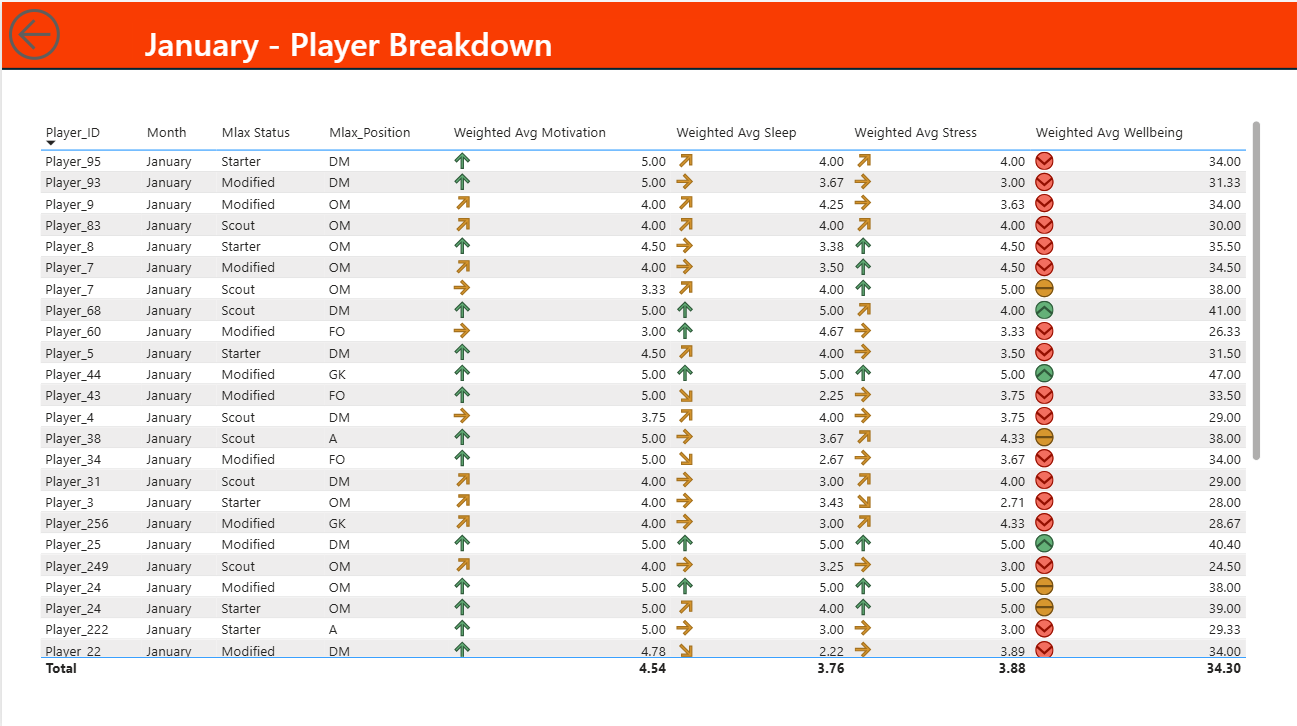

The dashboard page shown, as its layout file describes it:
{"tool":"powerbi","page":{"name":"Player - Primary Driver Data","canvas":[1280,720],"ordinal":2},"visuals":[{"type":"tableEx","fields":{"Values":["Wellness Data 2025.Player_ID","MonthSortTable.Month","Wellness Data 2025.Mlax Status","Wellness Data 2025.Mlax_Position","_Measures.Weighted Avg Motivation","_Measures.Weighted Avg Sleep","_Measures.Weighted Avg Stress","_Measures.Weighted Avg Wellbeing"]},"box":[32,112,1216,560],"z":0},{"type":"actionButton","box":[0,0,96,64],"z":1000},{"type":"cardVisual","fields":{"Data":["MonthSortTable.Drill Through Title"]},"box":[112,0,608,80],"z":2000}]}

Visuals, with their boxes in screenshot pixels (x1, y1, x2, y2), scaled from the page's 1280x720 canvas onto the 1297x726 screenshot:
tableEx - Wellness Data 2025.Player_ID x MonthSortTable.Month: (x1=32, y1=113, x2=1265, y2=678)
actionButton: (x1=0, y1=0, x2=97, y2=65)
cardVisual - MonthSortTable.Drill Through Title: (x1=113, y1=0, x2=730, y2=81)
